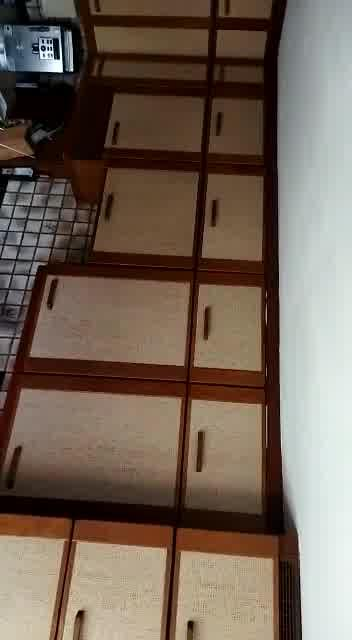cabinet_door: (0, 379, 182, 508), (28, 270, 185, 377), (61, 520, 169, 640), (173, 531, 287, 640), (184, 385, 270, 521), (96, 170, 196, 267), (192, 274, 274, 384), (108, 86, 204, 169), (0, 518, 65, 640), (198, 168, 272, 268), (203, 99, 273, 169)
handle: (0, 437, 27, 496), (191, 422, 215, 485), (198, 303, 222, 346), (206, 192, 226, 234), (44, 271, 62, 317), (210, 104, 229, 136), (103, 185, 118, 224), (112, 116, 125, 146)
